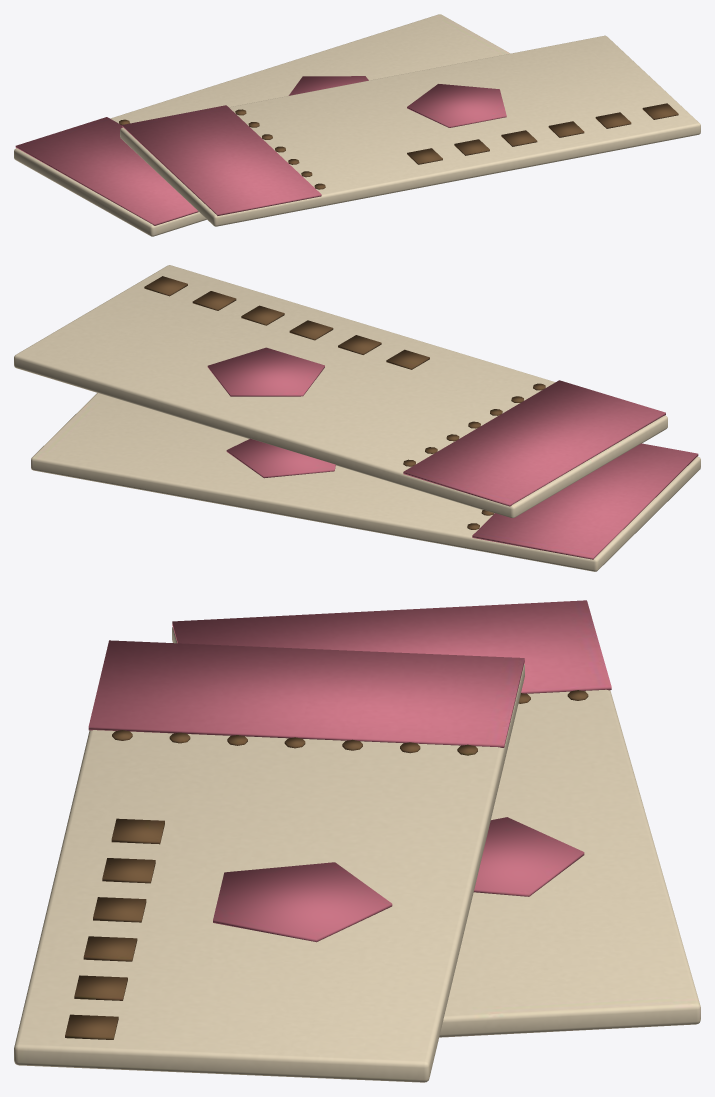
File: tm-movie-ticket-pair.glb
The picture shows the model from 3 angles, top to bottom: view 1: azimuth 30°, elevation 25°; view 2: azimuth 150°, elevation 25°; view 3: azimuth 270°, elevation 25°; orthographic projection. The views are drawn at different scales.
Parts seen in each view (by area): view 1: tm-movie-ticket-pair; view 2: tm-movie-ticket-pair; view 3: tm-movie-ticket-pair.
Part boxes in pixels (bbox=[...]): tm-movie-ticket-pair: bbox=[14, 14, 700, 236]; tm-movie-ticket-pair: bbox=[14, 265, 700, 571]; tm-movie-ticket-pair: bbox=[14, 600, 700, 1082].
Size of the model in its own units: 0.18 by 0.00778 by 0.1081.
Materials: 1 (1 with a texture image).
